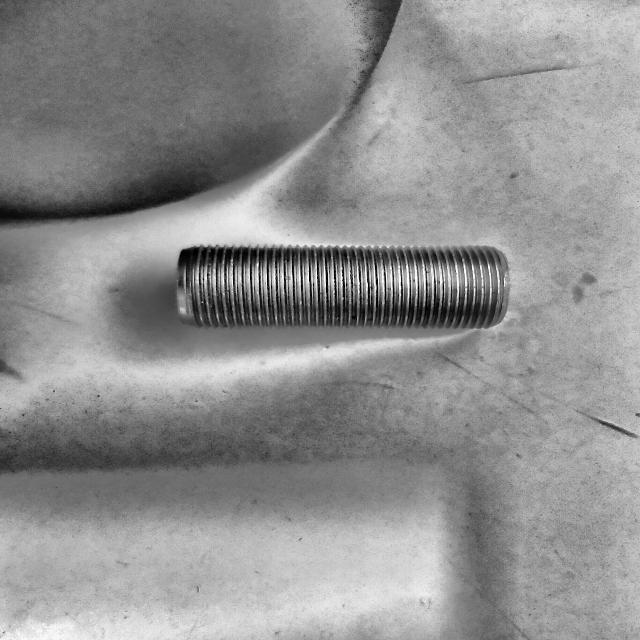Normal: (176, 243, 510, 330)
